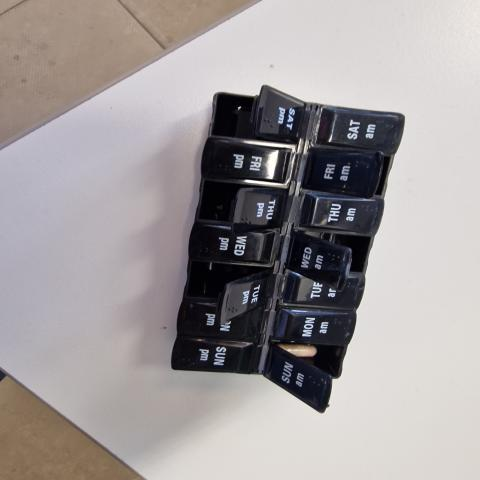Open: (186, 259, 272, 327), (208, 85, 298, 147), (197, 180, 281, 223), (297, 228, 375, 271), (274, 341, 347, 377), (371, 155, 394, 199)
